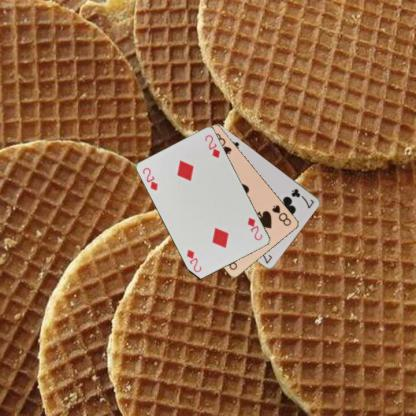2d: (140, 164, 160, 192), (245, 215, 264, 241)
7c: (289, 186, 315, 210)
8s: (270, 202, 292, 227)
